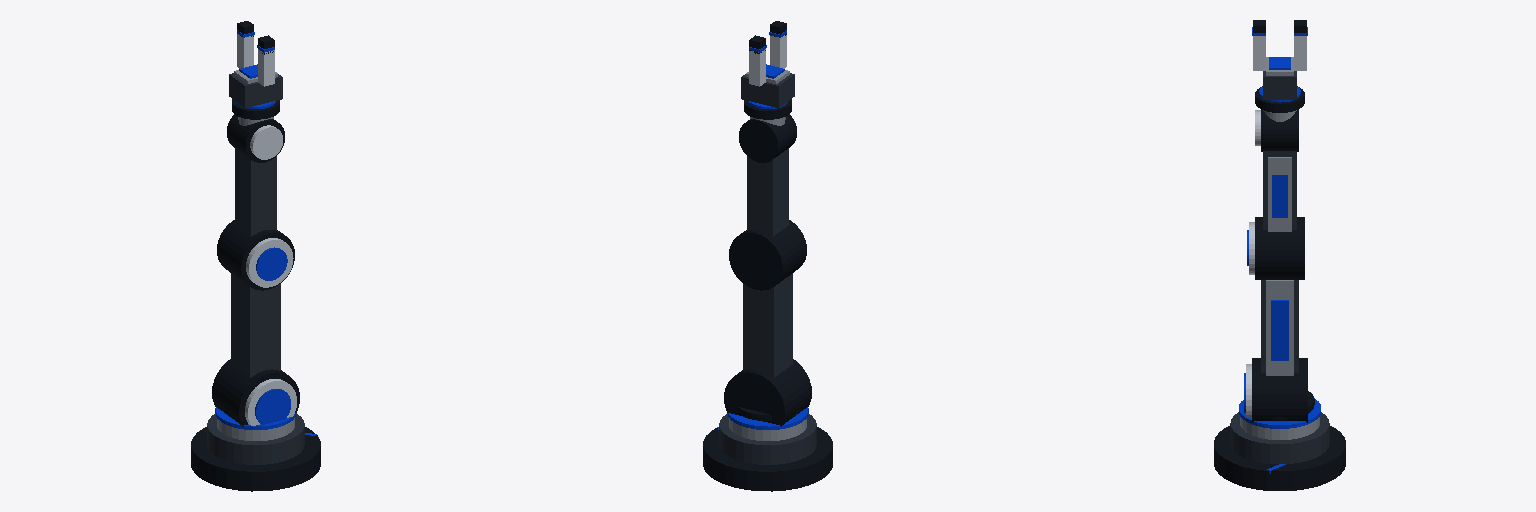
URDF robot description (the_turk):
<?xml version="1.0"?>

<robot name="the_turk">

  <!-- ========================================================= -->
  <!-- MATERIALS                                                 -->
  <!-- ========================================================= -->

  <material name="dark">
    <color rgba="0.10 0.12 0.15 1.0"/>
  </material>

  <material name="dark_light">
    <color rgba="0.20 0.23 0.27 1.0"/>
  </material>

  <material name="metal">
    <color rgba="0.55 0.58 0.62 1.0"/>
  </material>

  <material name="metal_light">
    <color rgba="0.75 0.78 0.82 1.0"/>
  </material>

  <material name="blue">
    <color rgba="0.05 0.30 0.85 1.0"/>
  </material>

  <material name="blue_dark">
    <color rgba="0.01 0.08 0.25 1.0"/>
  </material>

  <material name="rubber">
    <color rgba="0.015 0.018 0.022 1.0"/>
  </material>

  <material name="warning">
    <color rgba="0.95 0.48 0.05 1.0"/>
  </material>


  <!-- ========================================================= -->
  <!-- BASE LINK                                                 -->
  <!-- ========================================================= -->

  <link name="base_link">

    <inertial>
      <origin xyz="0 0 0.11"/>
      <mass value="4.8"/>
      <inertia ixx="0.080" ixy="0" ixz="0" iyy="0.080" iyz="0" izz="0.105"/>
    </inertial>

    <!-- Bottom plate -->
    <visual>
      <origin xyz="0 0 0.04"/>
      <geometry>
        <cylinder radius="0.24" length="0.08"/>
      </geometry>
      <material name="dark"/>
    </visual>

    <!-- Middle pedestal -->
    <visual>
      <origin xyz="0 0 0.11"/>
      <geometry>
        <cylinder radius="0.18" length="0.10"/>
      </geometry>
      <material name="dark_light"/>
    </visual>

    <!-- Upper rotating-looking platform -->
    <visual>
      <origin xyz="0 0 0.18"/>
      <geometry>
        <cylinder radius="0.145" length="0.06"/>
      </geometry>
      <material name="metal"/>
    </visual>

    <!-- Decorative blue ring -->
    <visual>
      <origin xyz="0 0 0.215"/>
      <geometry>
        <cylinder radius="0.15" length="0.015"/>
      </geometry>
      <material name="blue"/>
    </visual>

    <visual>
      <origin xyz="0 0 0.245"/>
      <geometry>
        <cylinder radius="0.125" length="0.025"/>
      </geometry>
      <material name="dark"/>
    </visual>

    <visual>
      <origin xyz="0.19 0 0.075" rpy="0 0 0.7854"/>
      <geometry>
        <box size="0.018 0.12 0.012"/>
      </geometry>
      <material name="blue"/>
    </visual>

    <collision>
      <origin xyz="0 0 0.12"/>
      <geometry>
        <cylinder radius="0.24" length="0.24"/>
      </geometry>
    </collision>

  </link>


  <!-- ========================================================= -->
  <!-- LINK 1 / UPPER ARM                                        -->
  <!-- ========================================================= -->

  <link name="link1">

    <inertial>
      <origin xyz="0 0 0.30"/>
      <mass value="3.2"/>
      <inertia ixx="0.110" ixy="0" ixz="0" iyy="0.095" iyz="0" izz="0.035"/>
    </inertial>

    <!-- Shoulder motor housing -->
    <!-- Cylinder axis rotated onto Y -->
    <visual>
      <origin xyz="0 0 0"
              rpy="1.5708 0 0"/>
      <geometry>
        <cylinder radius="0.13" length="0.20"/>
      </geometry>
      <material name="dark"/>
    </visual>

    <!-- Shoulder outer plate -->
    <visual>
      <origin xyz="0 -0.11 0"
              rpy="1.5708 0 0"/>
      <geometry>
        <cylinder radius="0.105" length="0.025"/>
      </geometry>
      <material name="metal_light"/>
    </visual>

    <!-- Shoulder blue cap -->
    <visual>
      <origin xyz="0 -0.125 0"
              rpy="1.5708 0 0"/>
      <geometry>
        <cylinder radius="0.075" length="0.012"/>
      </geometry>
      <material name="blue"/>
    </visual>


    <!-- Main upper arm -->
    <visual>
      <origin xyz="0 0 0.29"/>
      <geometry>
        <box size="0.13 0.14 0.48"/>
      </geometry>
      <material name="dark_light"/>
    </visual>

    <!-- Front metallic strip -->
    <visual>
      <origin xyz="0.068 0 0.29"/>
      <geometry>
        <box size="0.018 0.105 0.39"/>
      </geometry>
      <material name="metal"/>
    </visual>

    <!-- Decorative blue strip -->
    <visual>
      <origin xyz="0.079 0 0.29"/>
      <geometry>
        <box size="0.008 0.065 0.24"/>
      </geometry>
      <material name="blue"/>
    </visual>


    <!-- Elbow housing -->
    <visual>
      <origin xyz="0 0 0.58"
              rpy="1.5708 0 0"/>
      <geometry>
        <cylinder radius="0.115" length="0.18"/>
      </geometry>
      <material name="dark"/>
    </visual>

    <!-- Elbow outer plate -->
    <visual>
      <origin xyz="0 -0.10 0.58"
              rpy="1.5708 0 0"/>
      <geometry>
        <cylinder radius="0.095" length="0.025"/>
      </geometry>
      <material name="metal_light"/>
    </visual>

    <!-- Elbow blue cap -->
    <visual>
      <origin xyz="0 -0.115 0.58"
              rpy="1.5708 0 0"/>
      <geometry>
        <cylinder radius="0.065" length="0.012"/>
      </geometry>
      <material name="blue"/>
    </visual>

    <visual>
      <origin xyz="0.071 0 0.29"/>
      <geometry>
        <box size="0.010 0.095 0.34"/>
      </geometry>
      <material name="blue_dark"/>
    </visual>

    <collision>
      <origin xyz="0 0 0.30"/>
      <geometry>
        <box size="0.16 0.17 0.58"/>
      </geometry>
    </collision>

  </link>


  <!-- ========================================================= -->
  <!-- JOINT 1                                                   -->
  <!-- ========================================================= -->

  <joint name="joint1" type="revolute">

    <parent link="base_link"/>
    <child link="link1"/>

    <origin xyz="0 0 0.28"
            rpy="0 0 0"/>

    <!-- Rotation around Y -->
    <axis xyz="0 1 0"/>

    <limit
      lower="-1.5708"
      upper="1.5708"
      effort="20"
      velocity="1.0"/>

    <dynamics damping="0.7" friction="0.2"/>

  </joint>


  <!-- ========================================================= -->
  <!-- LINK 2 / FOREARM                                          -->
  <!-- ========================================================= -->

  <link name="link2">

    <inertial>
      <origin xyz="0 0 0.24"/>
      <mass value="2.1"/>
      <inertia ixx="0.055" ixy="0" ixz="0" iyy="0.045" iyz="0" izz="0.020"/>
    </inertial>

    <!-- Main forearm -->
    <visual>
      <origin xyz="0 0 0.24"/>
      <geometry>
        <box size="0.11 0.12 0.38"/>
      </geometry>
      <material name="dark_light"/>
    </visual>

    <!-- Metallic side/front strip -->
    <visual>
      <origin xyz="0.058 0 0.24"/>
      <geometry>
        <box size="0.014 0.09 0.30"/>
      </geometry>
      <material name="metal"/>
    </visual>

    <!-- Blue decorative strip -->
    <visual>
      <origin xyz="0.067 0 0.24"/>
      <geometry>
        <box size="0.006 0.055 0.17"/>
      </geometry>
      <material name="blue"/>
    </visual>


    <!-- Wrist housing -->
    <visual>
      <origin xyz="0 0 0.48"
              rpy="1.5708 0 0"/>
      <geometry>
        <cylinder radius="0.085" length="0.14"/>
      </geometry>
      <material name="dark"/>
    </visual>

    <!-- Wrist metallic cap -->
    <visual>
      <origin xyz="0 -0.08 0.48"
              rpy="1.5708 0 0"/>
      <geometry>
        <cylinder radius="0.065" length="0.02"/>
      </geometry>
      <material name="metal_light"/>
    </visual>

    <visual>
      <origin xyz="0.058 0 0.24"/>
      <geometry>
        <box size="0.010 0.075 0.20"/>
      </geometry>
      <material name="blue_dark"/>
    </visual>

    <collision>
      <origin xyz="0 0 0.24"/>
      <geometry>
        <box size="0.14 0.15 0.48"/>
      </geometry>
    </collision>

  </link>


  <!-- ========================================================= -->
  <!-- JOINT 2                                                   -->
  <!-- ========================================================= -->

  <joint name="joint2" type="revolute">

    <parent link="link1"/>
    <child link="link2"/>

    <origin xyz="0 0 0.58"
            rpy="0 0 0"/>

    <!-- Rotation around Y -->
    <axis xyz="0 1 0"/>

    <limit
      lower="-2.0944"
      upper="2.0944"
      effort="15"
      velocity="1.2"/>

    <dynamics damping="0.5" friction="0.15"/>

  </joint>


  <!-- ========================================================= -->
  <!-- WRIST LINK                                                -->
  <!-- Fixed: visual only                                        -->
  <!-- ========================================================= -->

  <link name="wrist_link">

    <inertial>
      <origin xyz="0 0 0.09"/>
      <mass value="0.65"/>
      <inertia ixx="0.008" ixy="0" ixz="0" iyy="0.008" iyz="0" izz="0.012"/>
    </inertial>

    <!-- Connector -->
    <visual>
      <origin xyz="0 0 0.055"/>
      <geometry>
        <cylinder radius="0.065" length="0.11"/>
      </geometry>
      <material name="metal"/>
    </visual>

    <!-- Tool mounting plate -->
    <visual>
      <origin xyz="0 0 0.12"/>
      <geometry>
        <cylinder radius="0.09" length="0.035"/>
      </geometry>
      <material name="dark"/>
    </visual>

    <!-- Blue tool ring -->
    <visual>
      <origin xyz="0 0 0.142"/>
      <geometry>
        <cylinder radius="0.075" length="0.012"/>
      </geometry>
      <material name="blue"/>
    </visual>

    <visual>
      <origin xyz="0 0 0.16"/>
      <geometry>
        <cylinder radius="0.055" length="0.025"/>
      </geometry>
      <material name="metal_light"/>
    </visual>

    <collision>
      <origin xyz="0 0 0.08"/>
      <geometry>
        <cylinder radius="0.08" length="0.18"/>
      </geometry>
    </collision>

  </link>


  <joint name="wrist_fixed_joint" type="fixed">

    <parent link="link2"/>
    <child link="wrist_link"/>

    <origin xyz="0 0 0.48"
            rpy="0 0 0"/>

  </joint>


  <!-- ========================================================= -->
  <!-- GRIPPER PALM                                              -->
  <!-- ========================================================= -->

  <link name="gripper_base">

    <inertial>
      <origin xyz="0 0 0.055"/>
      <mass value="0.55"/>
      <inertia ixx="0.004" ixy="0" ixz="0" iyy="0.004" iyz="0" izz="0.006"/>
    </inertial>

    <visual>
      <origin xyz="0 0 0.045"/>
      <geometry>
        <box size="0.16 0.12 0.09"/>
      </geometry>
      <material name="dark_light"/>
    </visual>

    <!-- Metallic front face -->
    <visual>
      <origin xyz="0 0 0.095"/>
      <geometry>
        <box size="0.13 0.10 0.018"/>
      </geometry>
      <material name="metal"/>
    </visual>

    <visual>
      <origin xyz="0 0 0.108"/>
      <geometry>
        <box size="0.095 0.08 0.010"/>
      </geometry>
      <material name="blue"/>
    </visual>

    <collision>
      <origin xyz="0 0 0.055"/>
      <geometry>
        <box size="0.16 0.12 0.11"/>
      </geometry>
    </collision>

  </link>


  <joint name="gripper_base_joint" type="fixed">

    <parent link="wrist_link"/>
    <child link="gripper_base"/>

    <origin xyz="0 0 0.15"
            rpy="0 0 0"/>

  </joint>


  <!-- ========================================================= -->
  <!-- LEFT GRIPPER FINGER                                       -->
  <!-- ========================================================= -->

  <link name="left_finger">

    <inertial>
      <origin xyz="0 0 0.095"/>
      <mass value="0.16"/>
      <inertia ixx="0.001" ixy="0" ixz="0" iyy="0.001" iyz="0" izz="0.0002"/>
    </inertial>

    <!-- Finger body -->
    <visual>
      <origin xyz="0 0 0.07"/>
      <geometry>
        <box size="0.045 0.045 0.14"/>
      </geometry>
      <material name="metal_light"/>
    </visual>

    <!-- Finger tip -->
    <visual>
      <origin xyz="0 0 0.155"/>
      <geometry>
        <box size="0.045 0.045 0.05"/>
      </geometry>
      <material name="dark"/>
    </visual>

    <visual>
      <origin xyz="0 0 0.145"/>
      <geometry>
        <box size="0.050 0.050 0.012"/>
      </geometry>
      <material name="blue"/>
    </visual>

    <collision>
      <origin xyz="0 0 0.095"/>
      <geometry>
        <box size="0.045 0.045 0.20"/>
      </geometry>
    </collision>

  </link>


  <joint name="left_finger_joint" type="fixed">

    <parent link="gripper_base"/>
    <child link="left_finger"/>

    <origin xyz="0 0.075 0.09"
            rpy="0 0 0"/>

  </joint>


  <!-- ========================================================= -->
  <!-- RIGHT GRIPPER FINGER                                      -->
  <!-- ========================================================= -->

  <link name="right_finger">

    <inertial>
      <origin xyz="0 0 0.095"/>
      <mass value="0.16"/>
      <inertia ixx="0.001" ixy="0" ixz="0" iyy="0.001" iyz="0" izz="0.0002"/>
    </inertial>

    <!-- Finger body -->
    <visual>
      <origin xyz="0 0 0.07"/>
      <geometry>
        <box size="0.045 0.045 0.14"/>
      </geometry>
      <material name="metal_light"/>
    </visual>

    <!-- Finger tip -->
    <visual>
      <origin xyz="0 0 0.155"/>
      <geometry>
        <box size="0.045 0.045 0.05"/>
      </geometry>
      <material name="dark"/>
    </visual>

    <visual>
      <origin xyz="0 0 0.145"/>
      <geometry>
        <box size="0.050 0.050 0.012"/>
      </geometry>
      <material name="blue"/>
    </visual>

    <collision>
      <origin xyz="0 0 0.095"/>
      <geometry>
        <box size="0.045 0.045 0.20"/>
      </geometry>
    </collision>

  </link>


  <joint name="right_finger_joint" type="fixed">

    <parent link="gripper_base"/>
    <child link="right_finger"/>

    <origin xyz="0 -0.075 0.09"
            rpy="0 0 0"/>

  </joint>


</robot>

--- Facts derived from the render (not from the file) ---
The picture shows the robot from 3 angles, left to right: view 1: azimuth 30°, elevation 25°; view 2: azimuth 150°, elevation 25°; view 3: azimuth 270°, elevation 25°; orthographic projection.
Model the_turk with 7 links and 6 joints (2 revolute, 4 fixed), rooted at base_link, posed all joints at 0.
Visible links, largest first — view 1: link1, base_link, link2, gripper_base, right_finger, wrist_link, left_finger; view 2: link1, base_link, link2, gripper_base, left_finger, wrist_link, right_finger; view 3: link1, base_link, link2, gripper_base, wrist_link, left_finger, right_finger.
Link boxes in pixels (x1,y1,x2,y2): link1: (212, 220, 299, 426); base_link: (191, 407, 320, 491); link2: (227, 114, 284, 236); gripper_base: (229, 64, 282, 107); right_finger: (257, 35, 274, 86); wrist_link: (232, 99, 279, 125); left_finger: (237, 21, 254, 68); link1: (724, 220, 811, 426); base_link: (703, 407, 832, 491); link2: (739, 114, 796, 236); gripper_base: (741, 64, 794, 107); left_finger: (749, 35, 766, 86); wrist_link: (744, 99, 791, 125); right_finger: (769, 21, 786, 68); link1: (1244, 217, 1307, 422); base_link: (1214, 391, 1345, 490); link2: (1255, 110, 1298, 231); gripper_base: (1263, 57, 1296, 99); wrist_link: (1255, 86, 1304, 121); left_finger: (1294, 20, 1307, 70); right_finger: (1252, 20, 1265, 70).
Size in the robot's own frame: 0.48 by 0.48 by 1.76 metres.
Geometry: primitives only (box / cylinder / sphere), no mesh files.
